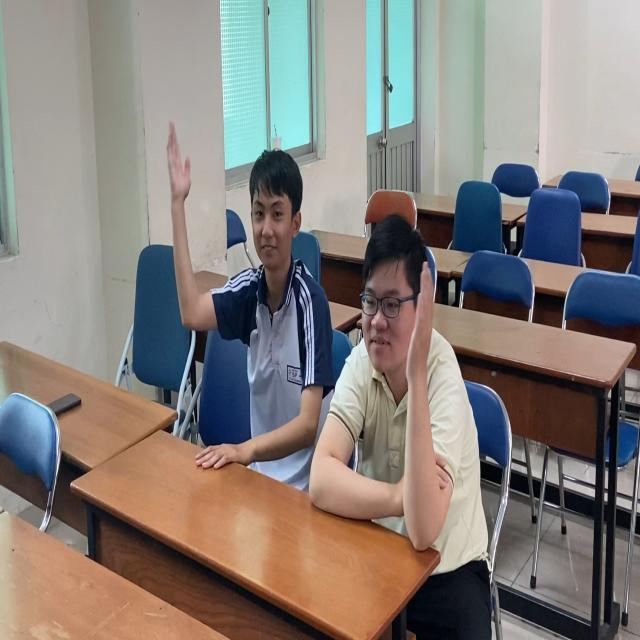raise_hand: (155, 115, 342, 497), (342, 216, 468, 550)
